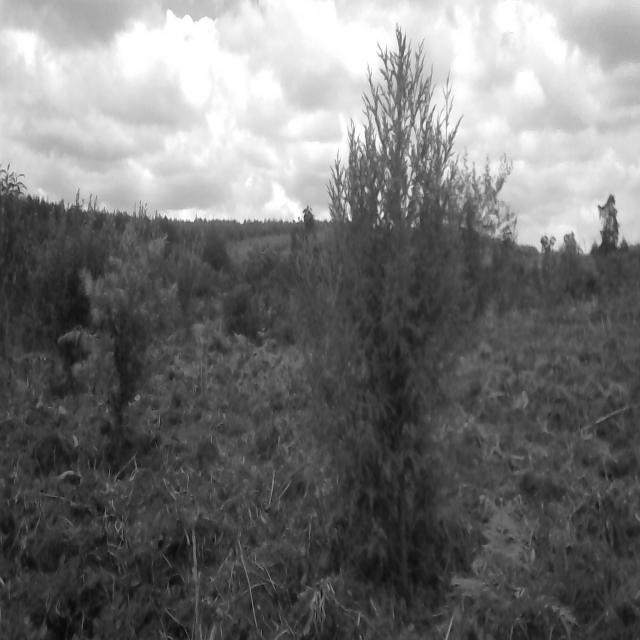Juniperus procesera: (318, 14, 502, 567)
Podocarpus falcatus: (82, 220, 165, 450)
